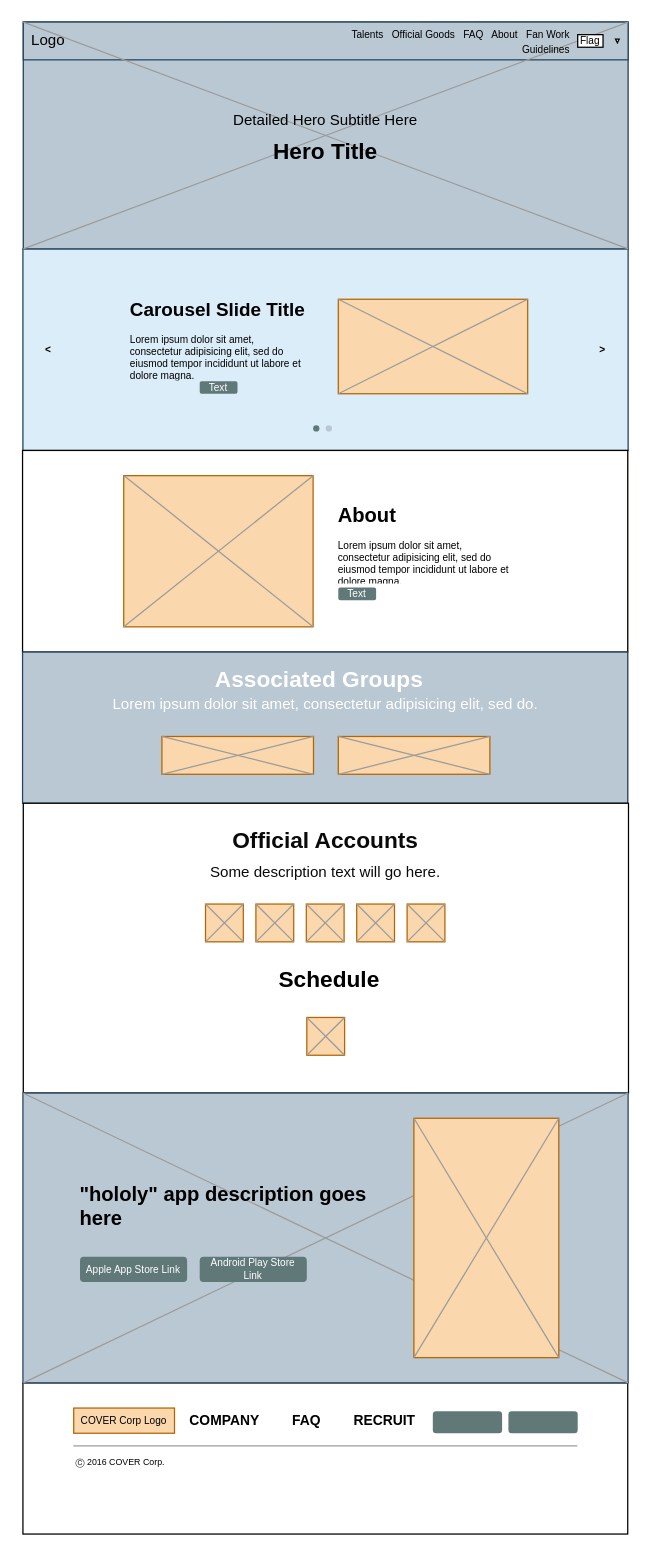
The diagram is 651 pixels wide and 1556 high, and some of its shapes have lost their labels. Here are the shapes that lost their labels. From the top down, the centre of each, then its label:
At point 466,1422: "Facebook Like".
At point 542,1422: "Twitter Share".
